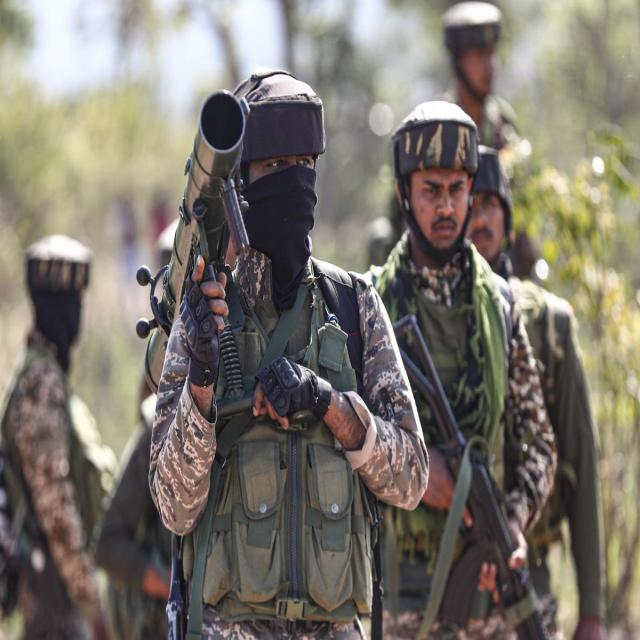Militant: (150, 48, 401, 640), (364, 90, 563, 640), (408, 0, 556, 417), (6, 212, 119, 640)
